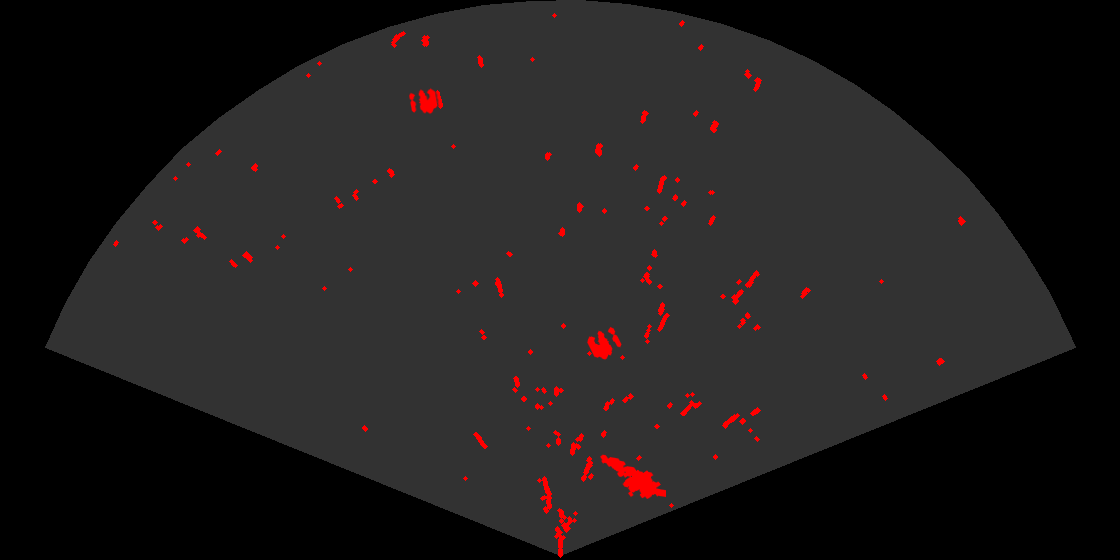ball: (586, 325, 623, 361), (408, 86, 440, 116)
frogman: (599, 453, 666, 500)
